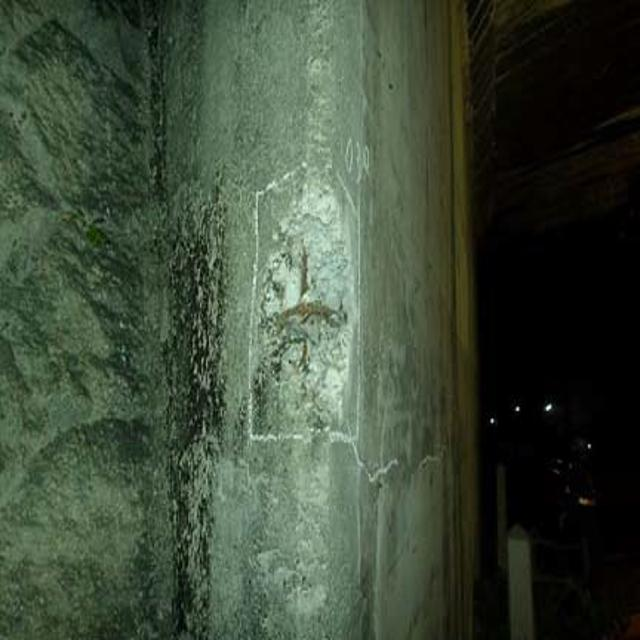spalling: (242, 175, 374, 466)
